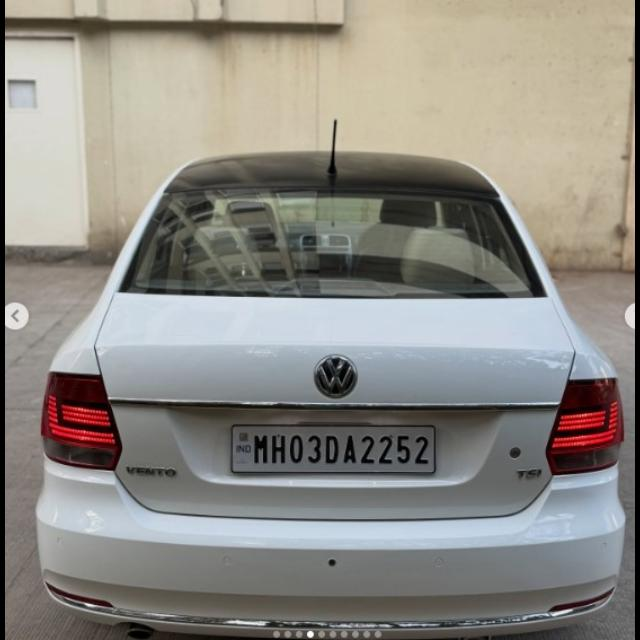number-plate: (233, 425, 437, 471)
vehicles: (38, 149, 620, 634)
